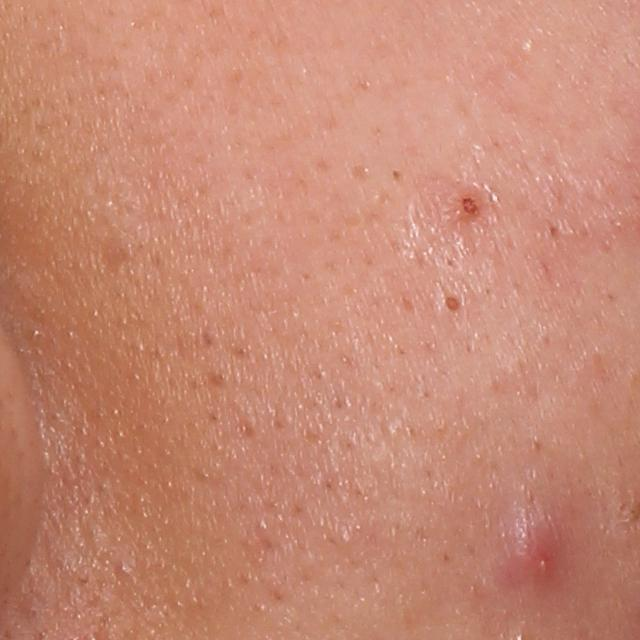comedo: (437, 289, 462, 318)
papule: (498, 495, 582, 599), (443, 182, 491, 226)
